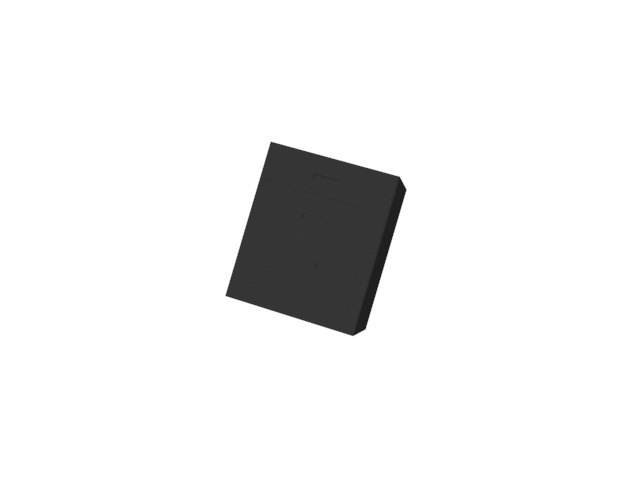file_cabinet: (225, 137, 408, 344)
